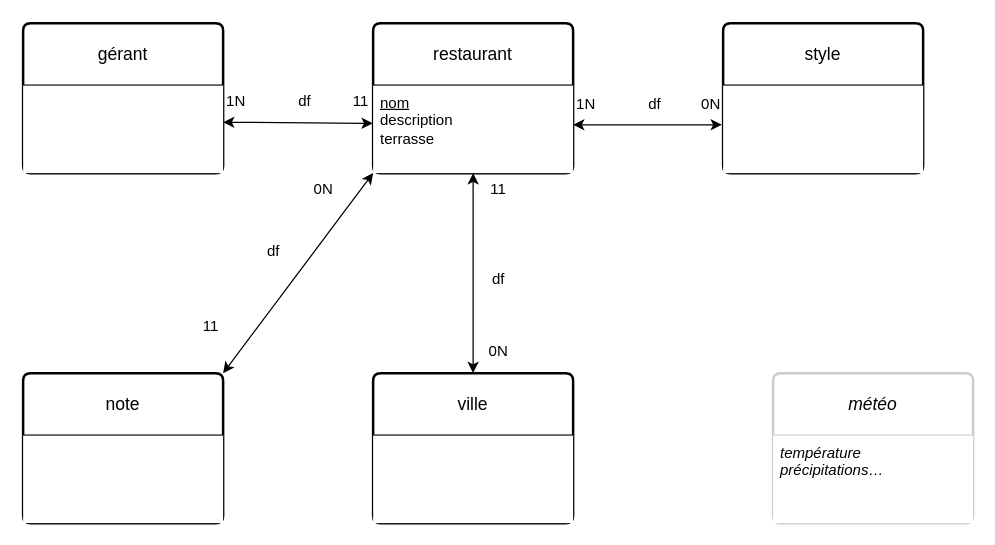
Some shapes in this 995 by 545 pixel diagram are drawn without their labels. The centre of each missing label's shape, as x and y in pixels:
email prénom nom mot de passe: the point at 122,128
nom: the point at 822,128
nom code postal coordonnées géo.: the point at 472,478
valeur: the point at 122,478
